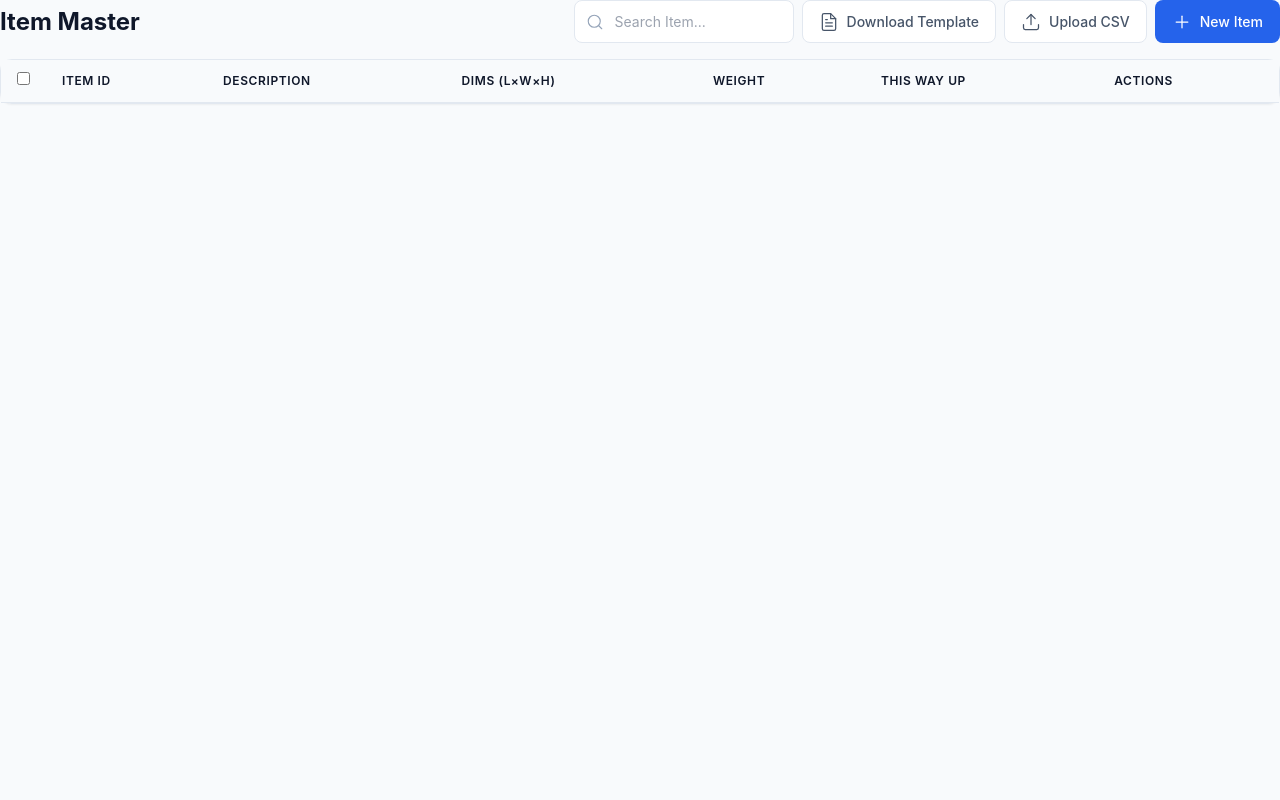
Test: + New Modal (Section 6.4 - FE-17 to FE-19) › Item Master + New Modal › FE-17: + New modal opens with same fields as standalone editor
Click the button "New Item": coordinates (1217, 22) [1155,0,1279,43]
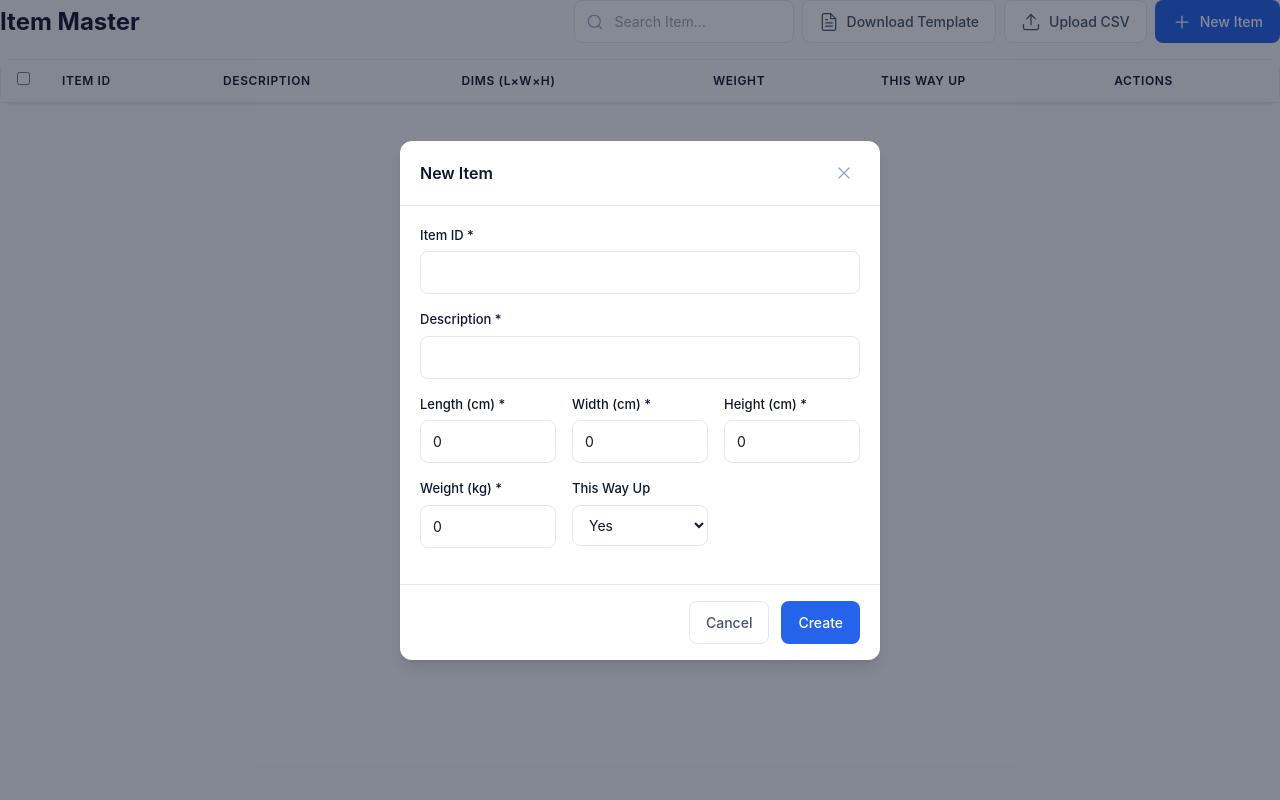
Expected: the dialog is shown, [400,140,880,660]
Expected: the number field labelled "Length (cm) *" is shown, [420,420,556,463]
Expected: the number field labelled "Width (cm) *" is shown, [572,420,708,463]
